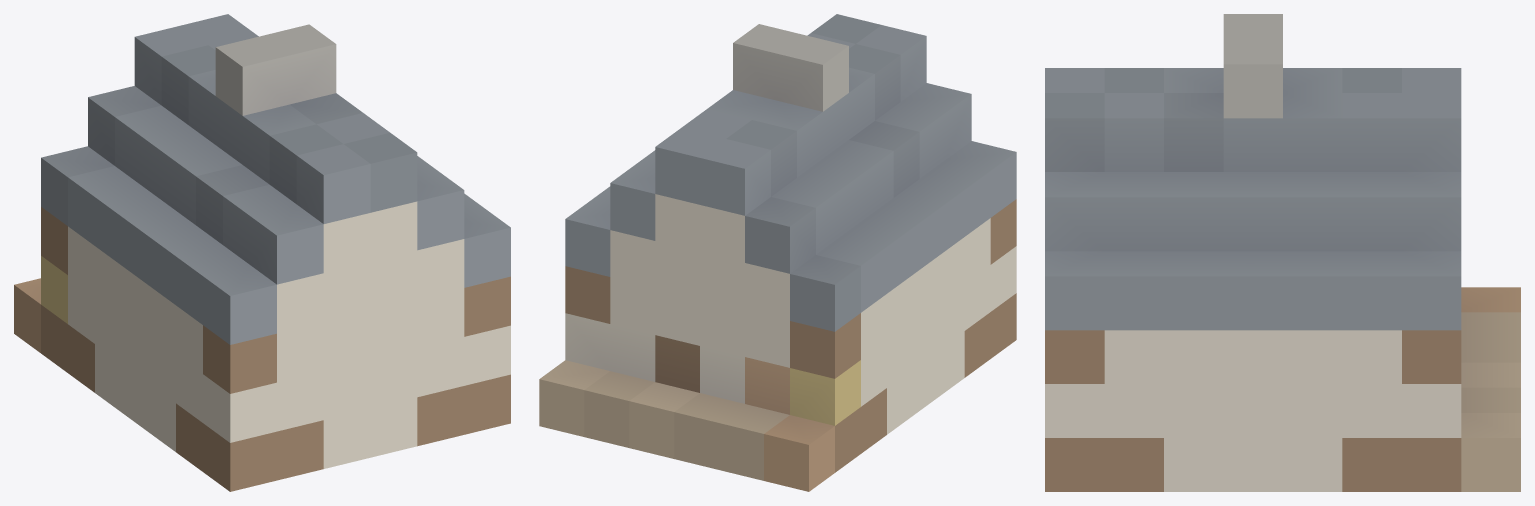
Rendered from soap_maker.lite.glb.
3 renders of one model, left to right at view 1: azimuth 30°, elevation 25°; view 2: azimuth 150°, elevation 25°; view 3: azimuth 270°, elevation 25°, orthographic. The views are drawn at different scales.
Parts seen in each view (by area): view 1: soap_maker; view 2: soap_maker; view 3: soap_maker.
Part boxes in pixels (x1,y1,x2,y2): soap_maker: (14, 14, 510, 491); soap_maker: (539, 14, 1016, 491); soap_maker: (1045, 14, 1520, 491).
Size of the model in its own units: 3 by 3.5 by 4.
